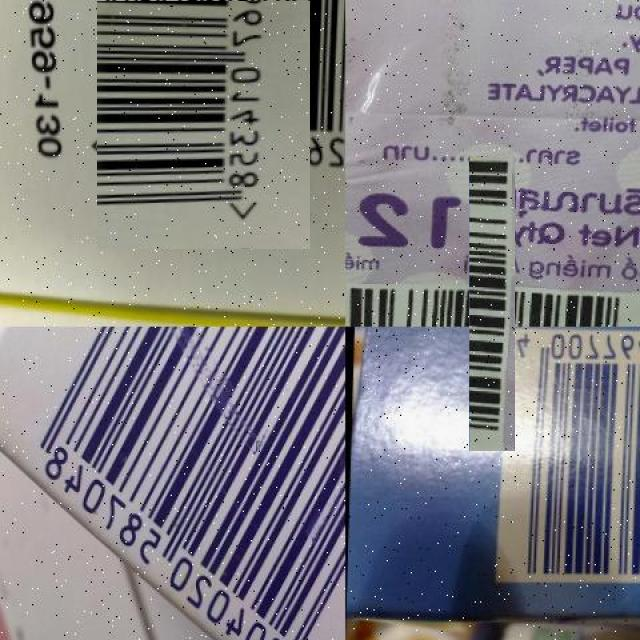Barcode: (21, 327, 345, 640), (79, 0, 327, 232), (494, 327, 640, 585), (407, 219, 578, 389)
